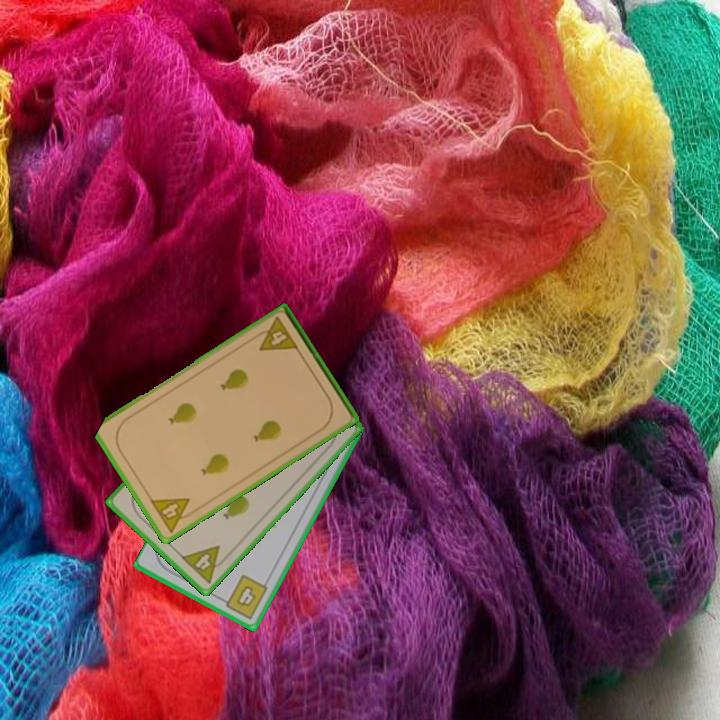4b: (217, 571, 271, 622)
4p: (177, 542, 232, 587), (146, 494, 200, 536), (249, 313, 301, 354)
